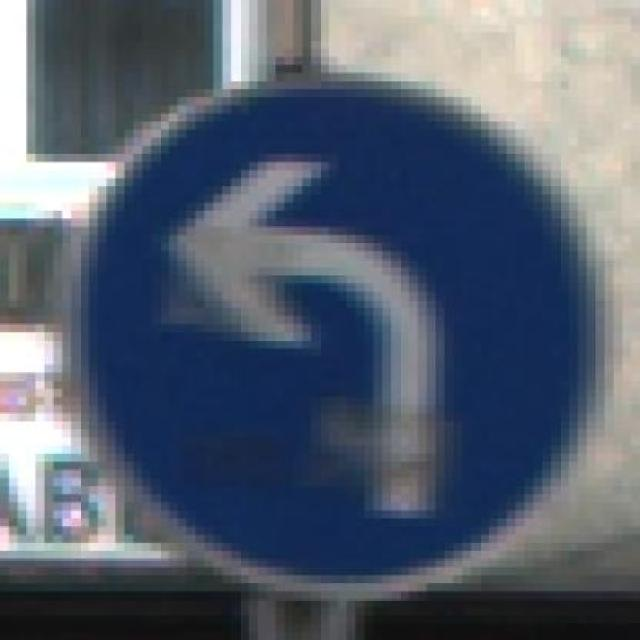Turn left ahead: (53, 80, 596, 592)
